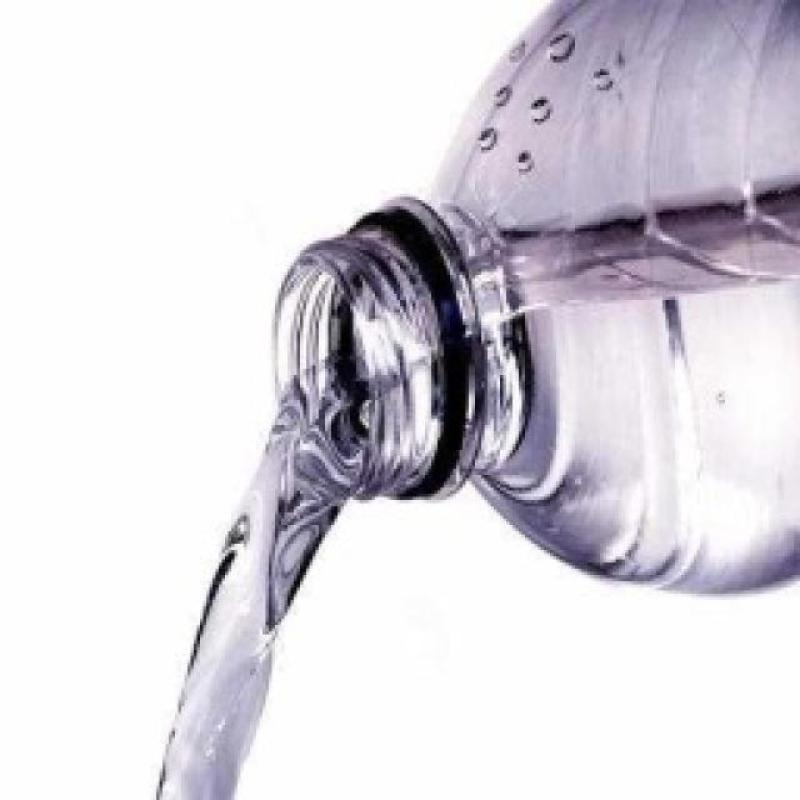botella: (271, 0, 800, 596)
